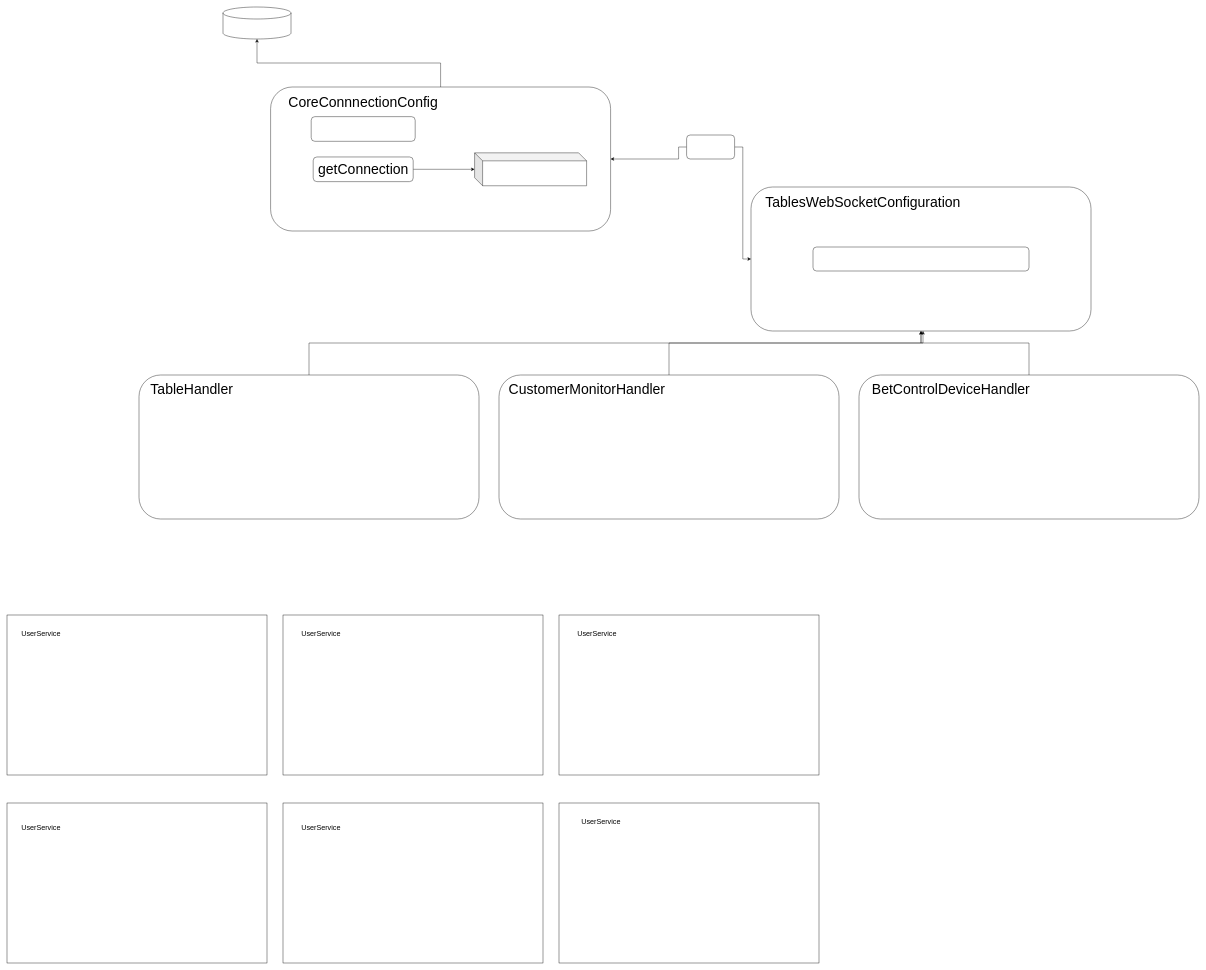
This 1206x970 diagram has some shape labels left out. Each missing label, with the box of its shape:
API_Platform: (474, 152, 587, 186)
APP: (686, 135, 735, 159)
core: (223, 7, 291, 39)
getWdsltoJson: (311, 116, 415, 141)
registerWebSocketHandlers: (813, 247, 1029, 271)
